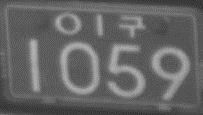0: (59, 41, 100, 96), (54, 11, 82, 34)
1: (19, 38, 51, 91), (88, 13, 109, 35)
5: (106, 44, 146, 99)
9: (150, 45, 191, 101)
구: (117, 14, 146, 37)
